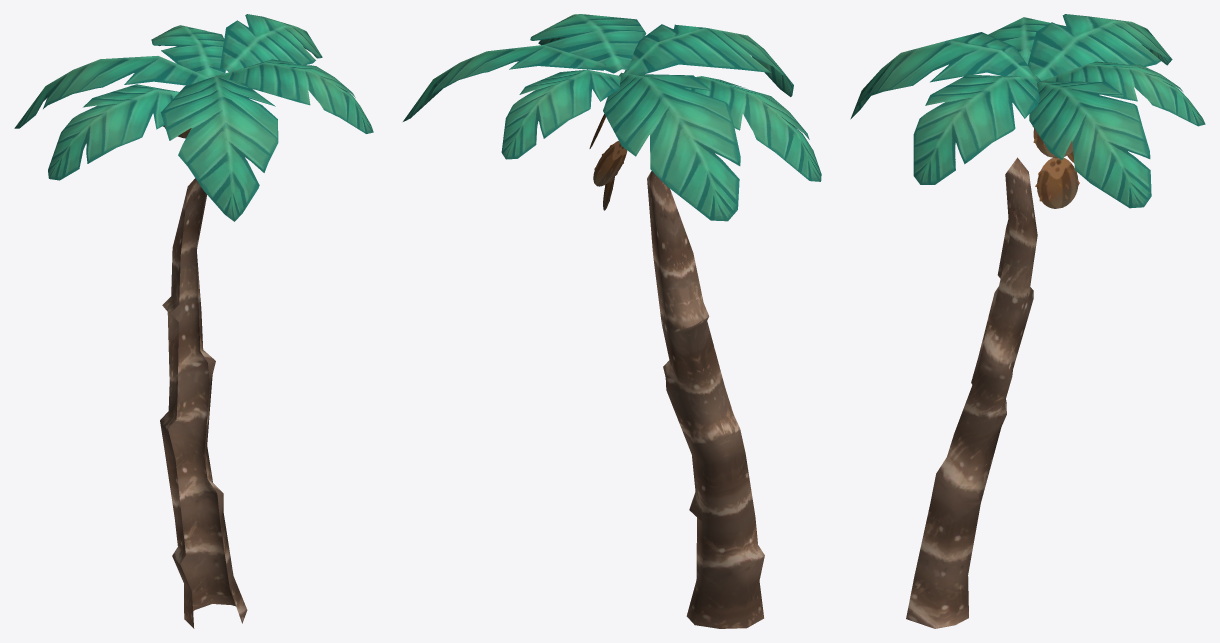
Rendered from CoconutTreeMedium.fbx.
3 views of the same model, side by side, from view 1: azimuth 30°, elevation 25°; view 2: azimuth 150°, elevation 25°; view 3: azimuth 270°, elevation 25° (orthographic). The views are drawn at different scales.
Visible parts, largest first — view 1: CoconutTreeTrunk; view 2: CoconutTreeTrunk, FruitCoconut (1); view 3: CoconutTreeTrunk, FruitCoconut (3).
Boxes of the visible parts, box(x1,y1,x2,y2) form: CoconutTreeTrunk: box(14, 14, 373, 628); CoconutTreeTrunk: box(403, 14, 821, 628); FruitCoconut (1): box(593, 141, 627, 186); CoconutTreeTrunk: box(850, 14, 1205, 628); FruitCoconut (3): box(1035, 158, 1079, 208).
Size of what is drawn, in the model's own units: 3.32 by 5.21 by 2.9.
